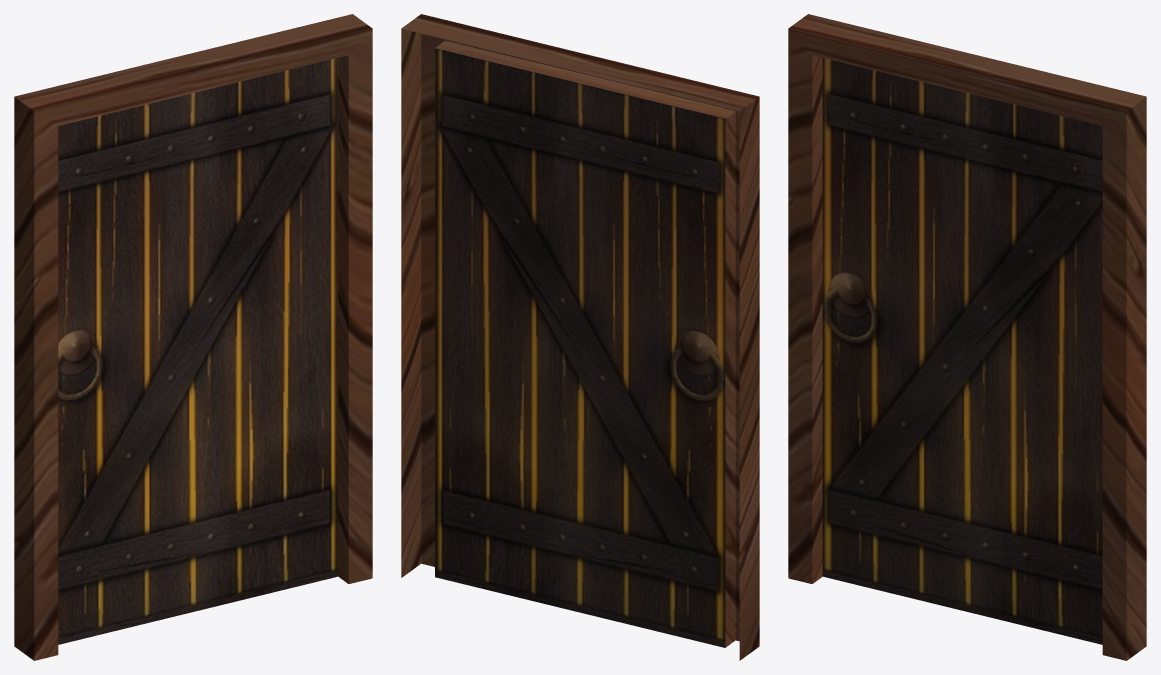
Rendered from House_Door.fbx.
3 renders of one model, left to right at view 1: azimuth 30°, elevation 25°; view 2: azimuth 150°, elevation 25°; view 3: azimuth 330°, elevation 25°, orthographic.
Visible parts, largest first — view 1: pCube2; view 2: pCube2; view 3: pCube2.
Boxes of the visible parts, x1,y1,x2,y2 form: pCube2: (14, 14, 372, 660); pCube2: (401, 14, 759, 660); pCube2: (788, 14, 1146, 660).
Bounding box in the file's own units: 5.23 × 8.11 × 0.5362.
